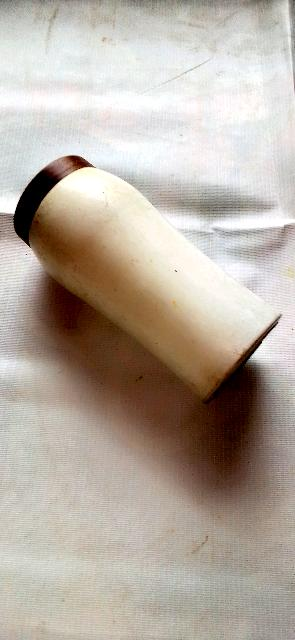hardplastic: (0, 136, 292, 410)
